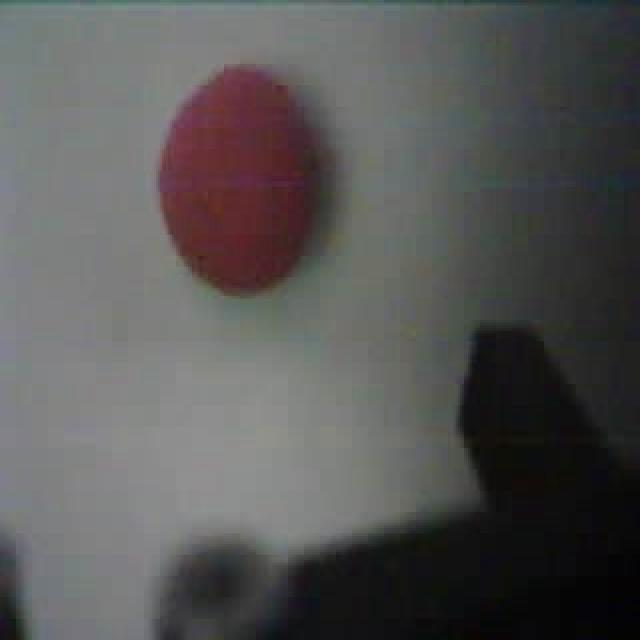red_ball: (154, 59, 326, 301)
